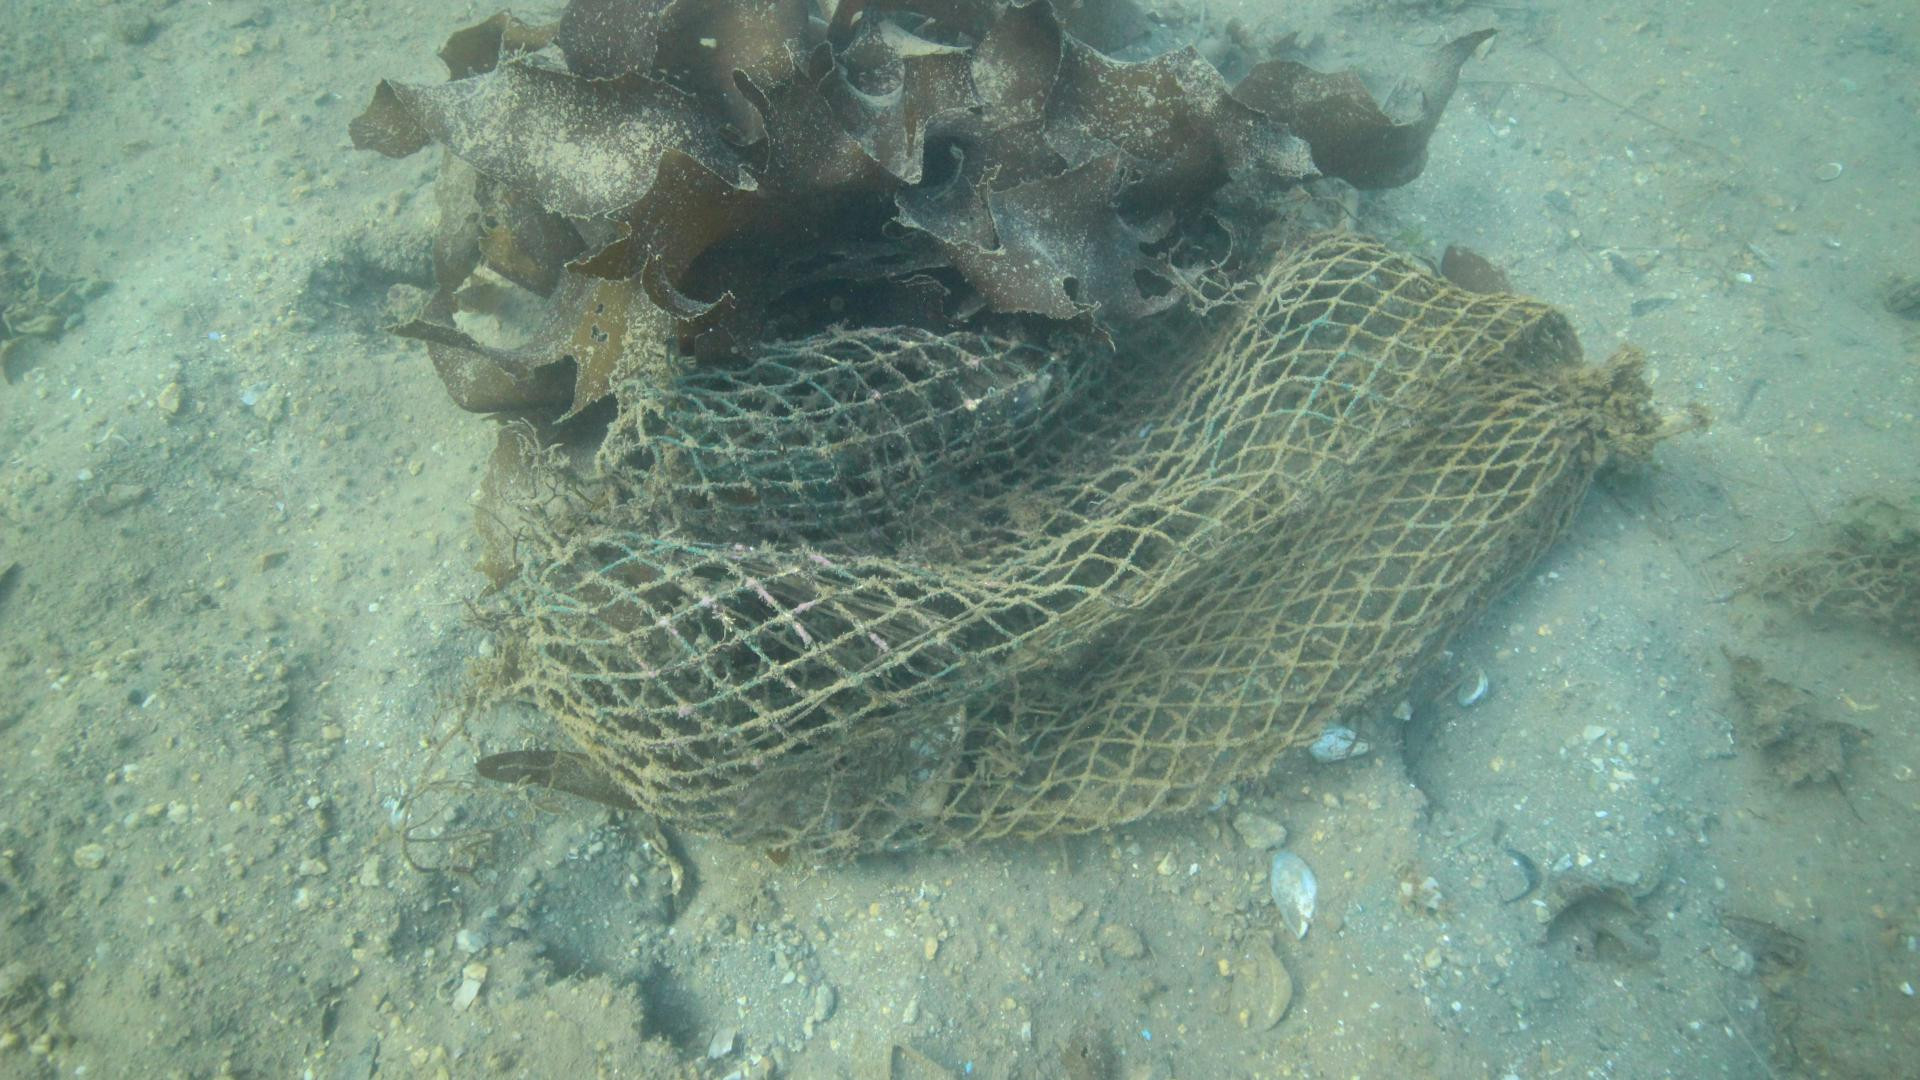fish net: (525, 229, 1600, 874)
